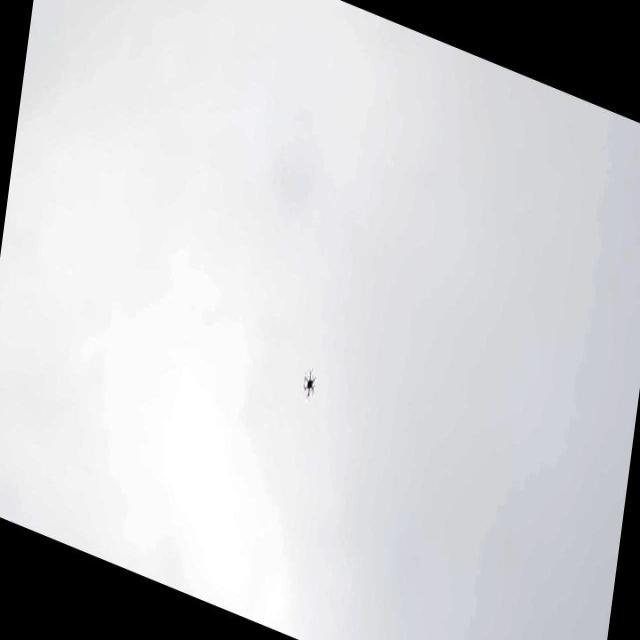drone: (297, 361, 321, 402)
